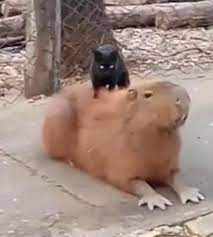capivara: (43, 80, 205, 211)
